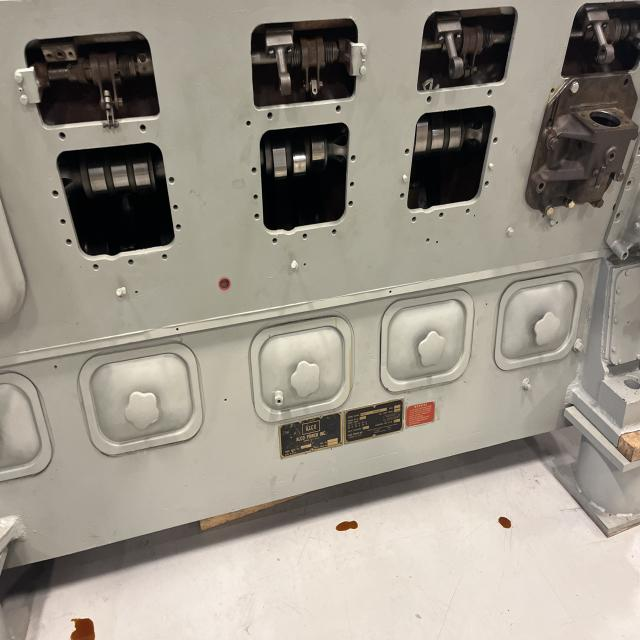Oil Leak: (70, 618, 95, 640), (336, 521, 358, 531), (498, 516, 511, 528)
